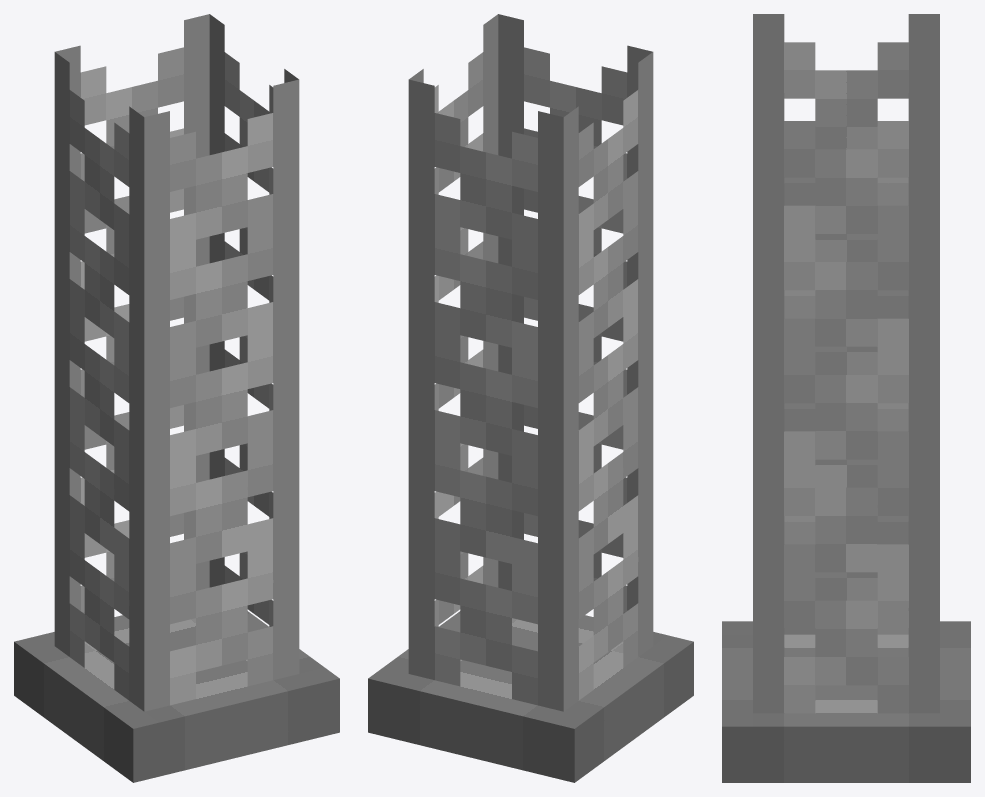
The model's file is strut.obj.
3 views of the same model, side by side, from view 1: azimuth 30°, elevation 25°; view 2: azimuth 150°, elevation 25°; view 3: azimuth 270°, elevation 25° (orthographic). The views are drawn at different scales.
Parts seen in each view (by area): view 1: Cube_Cube.001; view 2: Cube_Cube.001; view 3: Cube_Cube.001.
Boxes of the visible parts, bbox=[...] form: Cube_Cube.001: bbox=[14, 14, 339, 782]; Cube_Cube.001: bbox=[368, 14, 693, 782]; Cube_Cube.001: bbox=[722, 14, 970, 782].
Bounding box in the file's own units: 0.5 × 1.5 × 0.5.
